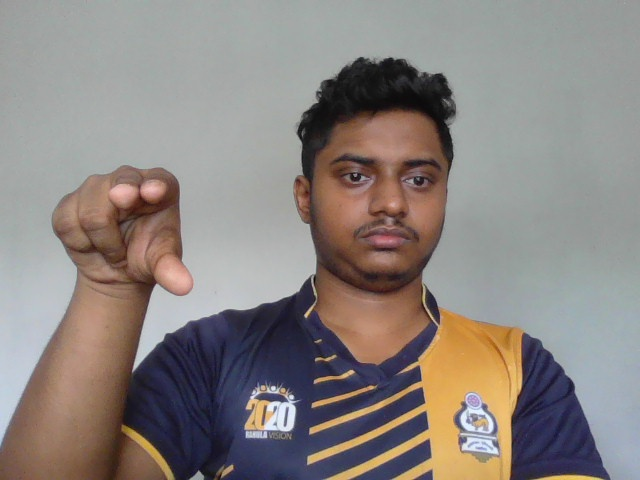No: (50, 163, 195, 299)
